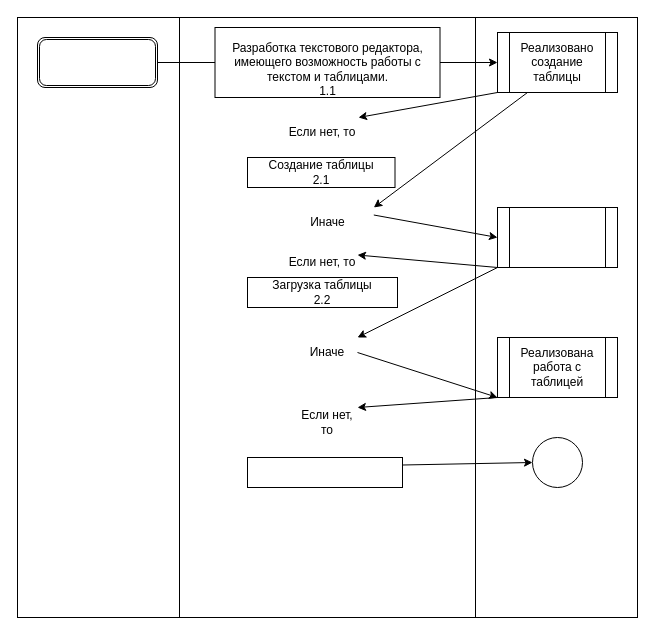
Some shapes in this 655 by 635 pixel diagram are drawn without their labels. The centre of each missing label's shape, as x and y in pixels:
"Работа с таблицей 2.3" belongs at point (324, 472).
"Реализована загрузка табилцы" belongs at point (557, 237).
